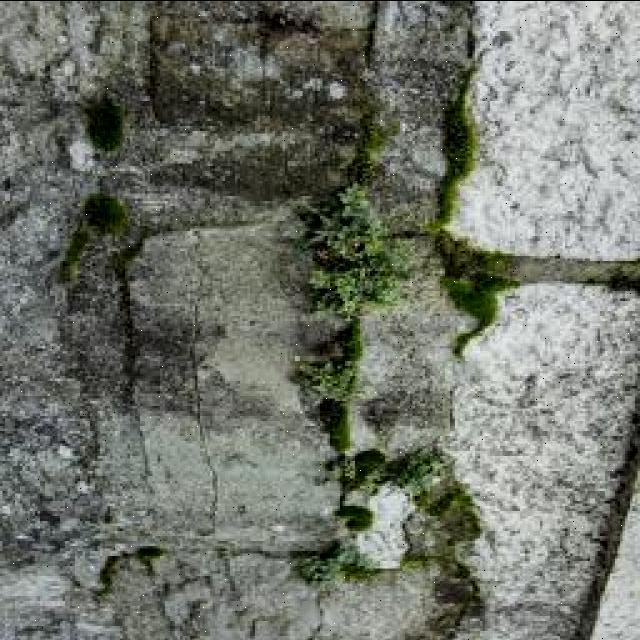corrosion: (1, 4, 635, 635)
crack: (185, 387, 346, 553), (107, 237, 221, 419), (121, 399, 228, 543), (1, 261, 98, 418), (147, 74, 365, 140), (487, 4, 629, 103), (337, 0, 394, 226), (158, 216, 307, 297), (444, 236, 640, 294), (70, 531, 364, 568), (84, 206, 292, 250), (202, 364, 312, 444), (184, 276, 216, 529), (3, 0, 87, 91), (251, 0, 283, 219), (114, 248, 147, 434), (227, 580, 328, 640), (55, 3, 120, 87), (123, 373, 162, 511), (547, 125, 617, 191), (2, 181, 60, 247), (357, 0, 387, 92), (144, 10, 167, 124), (378, 225, 434, 243), (464, 6, 480, 64)
dampens: (164, 0, 350, 63)
vegetation: (359, 2, 490, 221), (421, 69, 520, 353), (296, 179, 418, 323), (57, 94, 141, 288), (145, 11, 264, 129), (72, 542, 207, 639), (1, 187, 84, 323), (2, 101, 87, 209), (3, 550, 102, 637), (69, 163, 178, 242), (260, 18, 362, 82), (318, 183, 381, 238), (82, 91, 129, 155), (94, 550, 125, 597), (134, 545, 168, 573)
